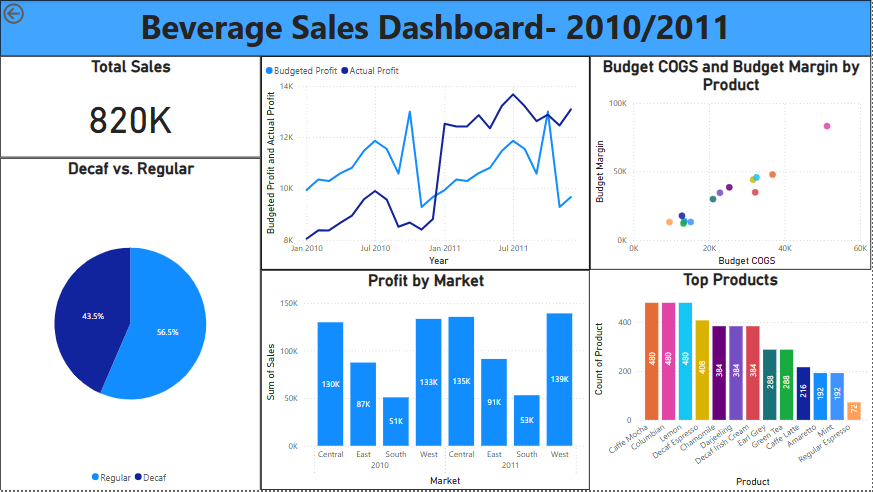

The page's visual inventory and layout, read from the dashboard file:
{"tool":"powerbi","page":{"name":"Page 1","canvas":[1280,720],"ordinal":0},"visuals":[{"type":"textbox","box":[0,0,1280,82.9],"z":0},{"type":"card","title":"Total Sales","fields":{"Values":["Sum(sales.Sales)"]},"box":[0,82.9,382.9,148.6],"z":1},{"type":"pieChart","title":"Decaf vs. Regular","fields":{"Category":["sales.Type"],"Y":["CountNonNull(sales.Type)"]},"box":[0,231.8,383,488.8],"z":3},{"type":"columnChart","title":"Profit by Market","fields":{"Category":["sales.Date.Variation.Date Hierarchy.Year","sales.Market"],"Y":["Sum(sales.Sales)"]},"box":[383.5,396.7,483.4,323.3],"z":4},{"type":"lineChart","fields":{"Y":["Sum(sales.Budget Profit)","Sum(sales.Profit)"],"Category":["sales.Date.Variation.Date Hierarchy.Year","sales.Date.Variation.Date Hierarchy.Month"]},"box":[383.5,82.3,483.4,314.4],"z":5},{"type":"scatterChart","title":"Budget COGS and Budget Margin by Product","fields":{"X":["Sum(sales.Budget COGS)"],"Y":["Sum(sales.Budget Margin)"],"Category":["sales.Product"],"Series":["sales.Product"]},"box":[866.9,82.3,412.9,314.4],"z":6},{"type":"actionButton","box":[0,0,100,40],"z":7},{"type":"columnChart","title":"Top Products","fields":{"Category":["sales.Product"],"Y":["CountNonNull(sales.Product)"],"Series":["sales.Product"]},"box":[866.9,396.7,412.9,323.3],"z":8}]}

Visuals, with their boxes in screenshot pixels (x1, y1, x2, y2), scaled from the page's 1280x720 canvas onto the 873x492 screenshot:
textbox: <box>0,0,872,57</box>
"Total Sales" card: <box>0,57,261,158</box>
"Decaf vs. Regular" pieChart: <box>0,158,261,491</box>
"Profit by Market" columnChart: <box>262,271,591,491</box>
lineChart - Sum(sales.Budget Profit) x Sum(sales.Profit): <box>262,56,591,271</box>
"Budget COGS and Budget Margin by Product" scatterChart: <box>591,56,872,271</box>
actionButton: <box>0,0,68,27</box>
"Top Products" columnChart: <box>591,271,872,491</box>
